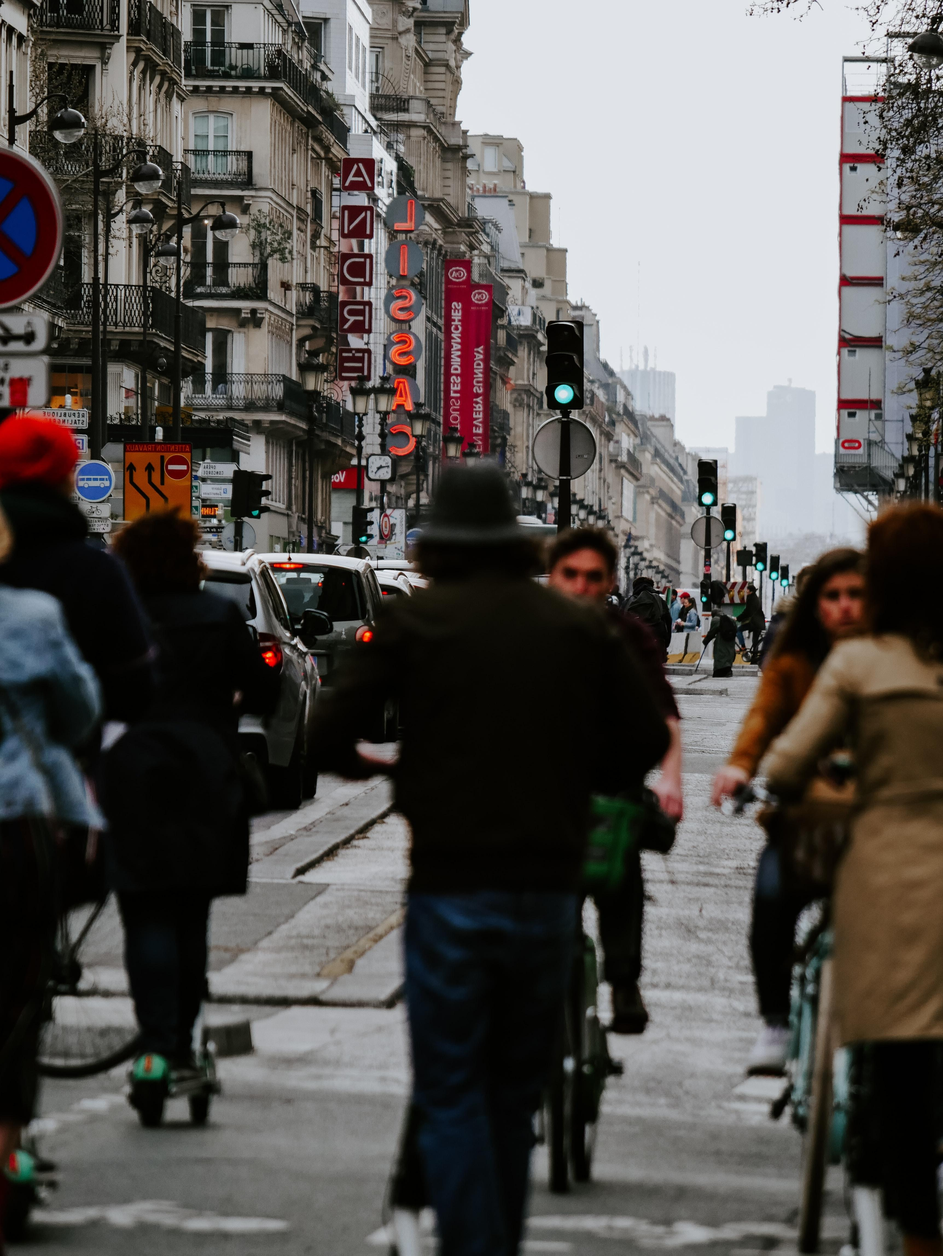Traffic light green: (539, 295, 596, 435)
